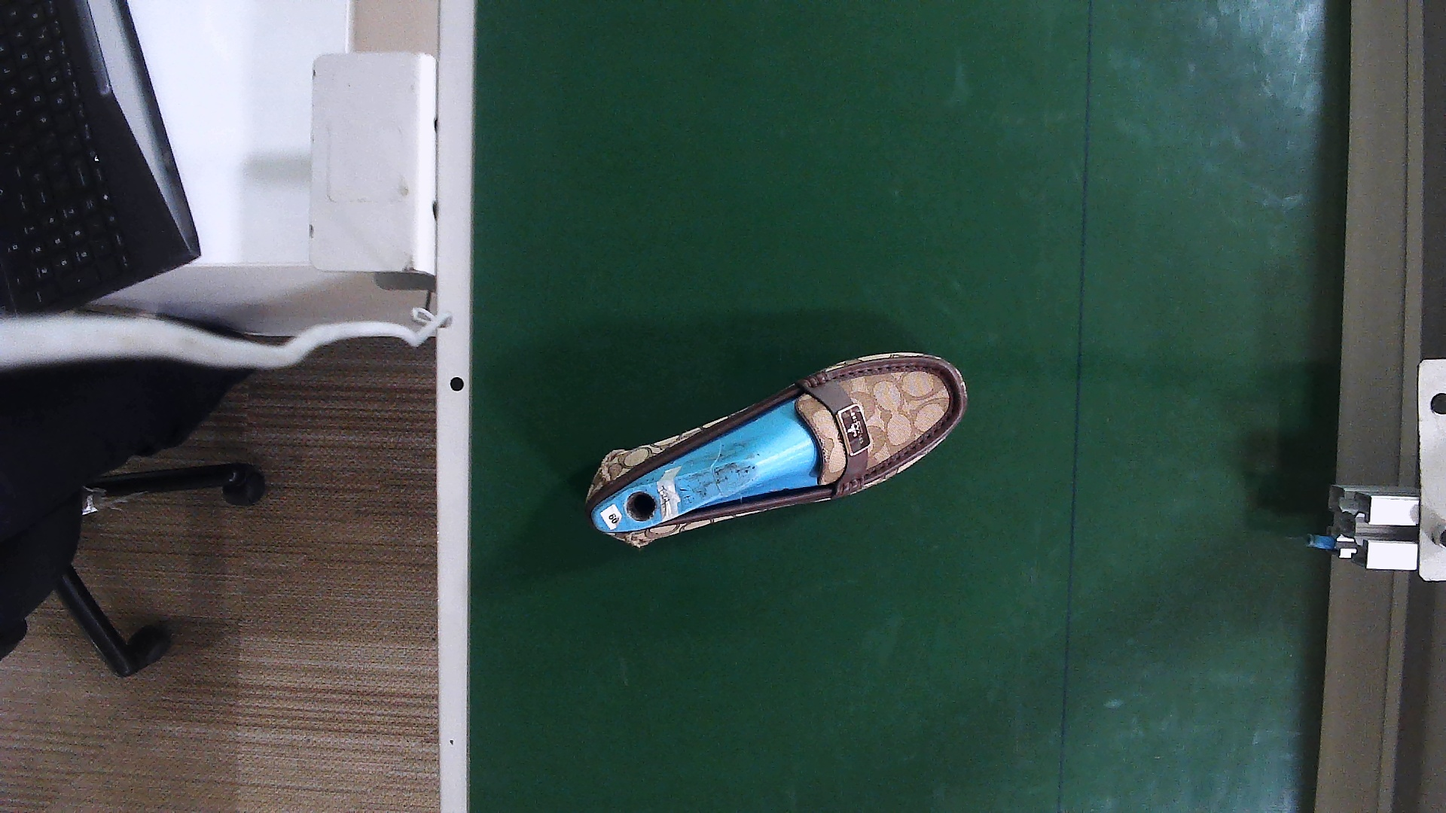shoe: (590, 356, 966, 546)
